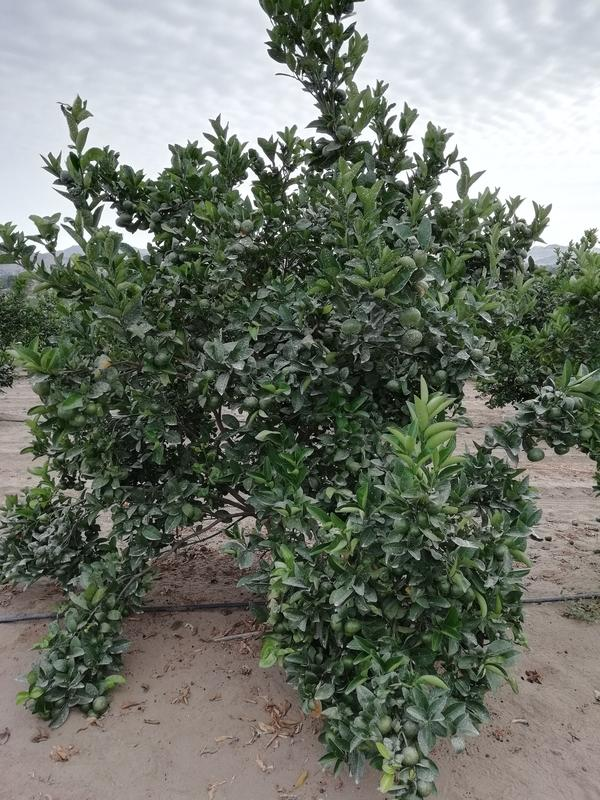mandarina verde: (400, 308, 421, 327), (400, 746, 418, 766), (402, 329, 423, 345), (341, 318, 362, 334), (394, 516, 410, 535), (92, 696, 108, 713), (416, 779, 433, 795), (397, 256, 415, 271), (403, 721, 417, 739), (346, 620, 361, 634), (528, 449, 544, 462), (554, 444, 570, 456), (155, 353, 169, 366), (245, 396, 259, 409), (150, 401, 163, 415), (85, 403, 98, 416), (470, 348, 483, 360), (149, 212, 162, 221)
